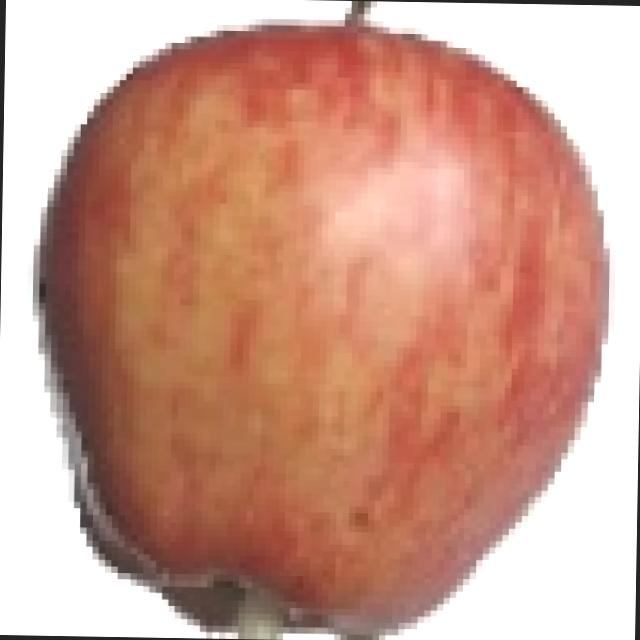apple: (18, 17, 624, 637)
